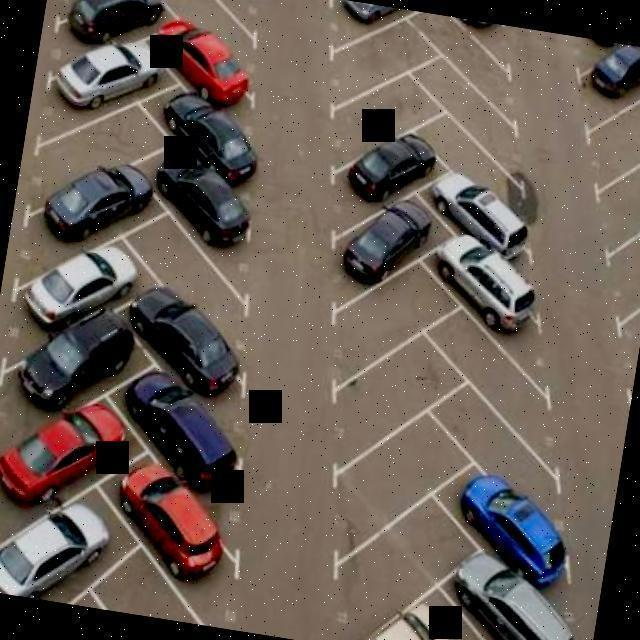empty: (359, 522, 441, 598), (352, 278, 412, 350), (364, 366, 426, 428), (155, 224, 215, 287), (445, 76, 511, 130), (76, 112, 144, 164), (371, 431, 428, 493), (354, 78, 408, 138), (118, 554, 164, 618), (362, 27, 417, 80), (476, 348, 533, 398), (442, 28, 498, 78), (432, 128, 510, 162), (589, 120, 640, 161), (616, 168, 640, 241), (180, 0, 227, 35), (469, 416, 516, 450), (625, 241, 640, 289)
occupied: (128, 477, 214, 553), (148, 295, 230, 371), (472, 470, 554, 546), (58, 160, 145, 230), (74, 32, 158, 98), (472, 579, 557, 640), (344, 200, 412, 270), (453, 260, 522, 328), (135, 389, 212, 447), (36, 413, 100, 476), (19, 523, 85, 578), (170, 24, 230, 84), (58, 334, 120, 392), (50, 248, 114, 302), (439, 190, 524, 228), (160, 168, 224, 216), (186, 102, 239, 154), (70, 0, 151, 31), (384, 608, 455, 640), (595, 54, 640, 96), (374, 138, 414, 176), (350, 2, 380, 35), (476, 21, 482, 28)
